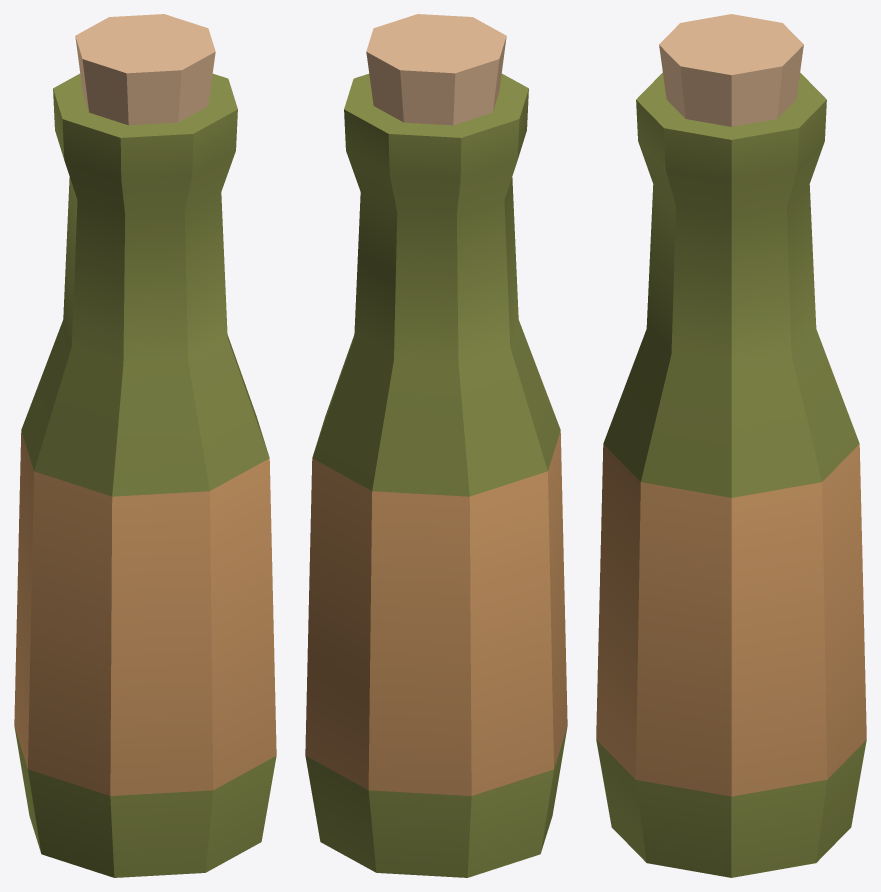
Rendered from Bottle.fbx.
The picture shows the model from 3 angles, left to right: view 1: azimuth 30°, elevation 25°; view 2: azimuth 150°, elevation 25°; view 3: azimuth 270°, elevation 25°; orthographic projection.
Visible parts, largest first — view 1: Bottle.003; view 2: Bottle.003; view 3: Bottle.003.
Part boxes in pixels (x1=…): Bottle.003: x1=14, y1=14, x2=276, y2=877; Bottle.003: x1=305, y1=14, x2=567, y2=877; Bottle.003: x1=596, y1=14, x2=866, y2=877.
Size of the model in its own units: 24.1 by 76.89 by 24.1.
